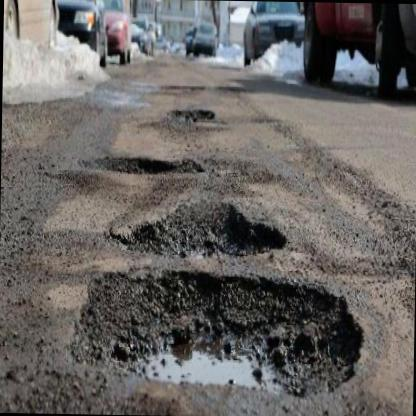pothole: (70, 260, 372, 401), (98, 196, 292, 260), (82, 148, 206, 180), (172, 104, 216, 127)
